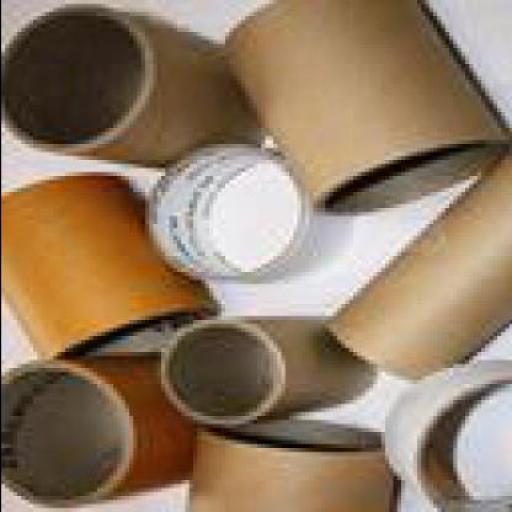cardboard: (220, 4, 508, 220), (316, 160, 508, 388), (1, 8, 256, 168), (2, 176, 204, 366), (2, 356, 188, 510), (151, 320, 368, 432), (140, 148, 316, 284), (376, 368, 508, 511), (180, 428, 392, 511)
